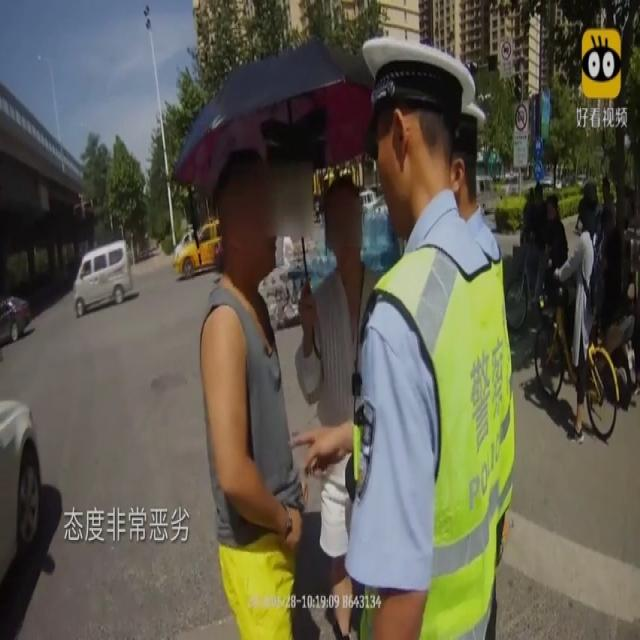non-fight: (325, 24, 524, 638), (198, 140, 310, 639), (288, 164, 384, 640)
